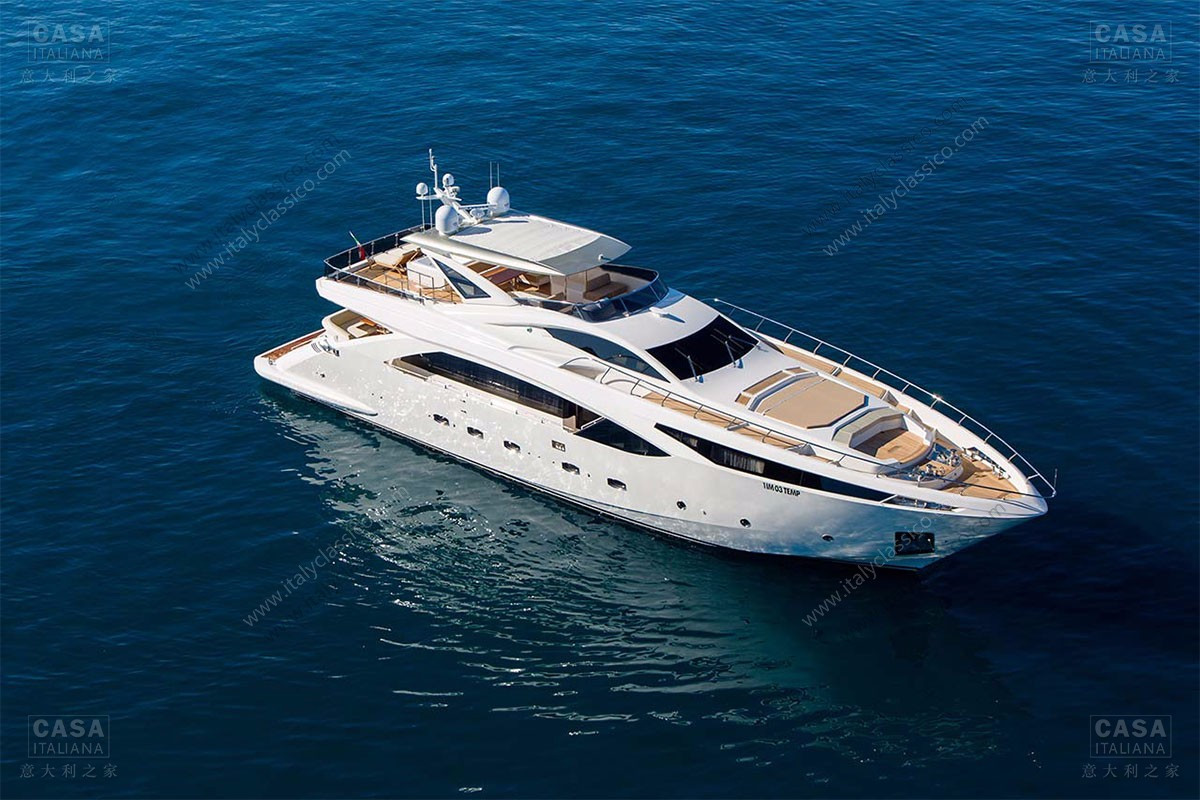yacht: (253, 145, 1056, 571)
